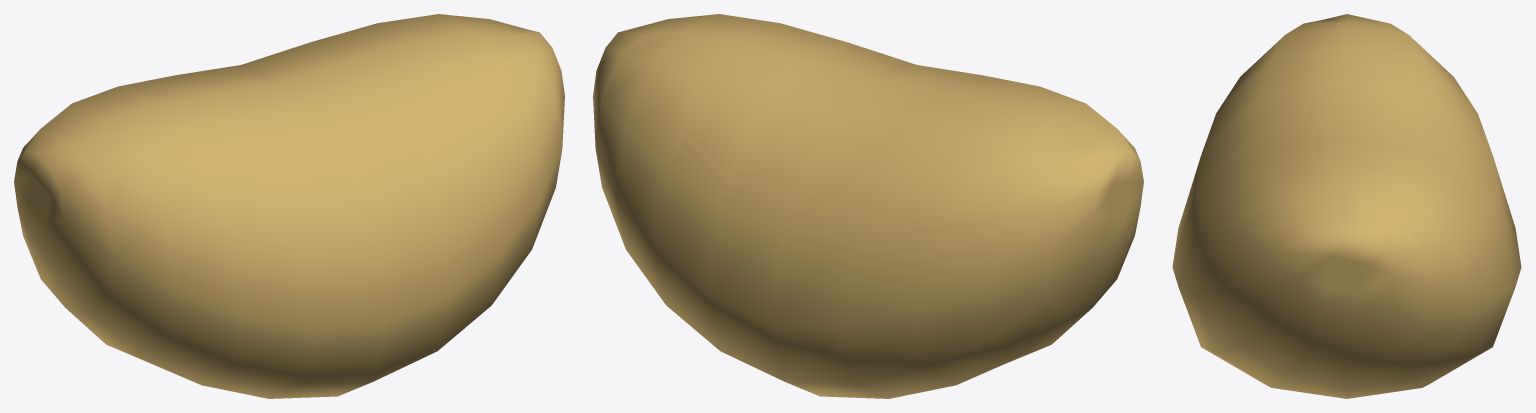
File: Garlic_Peeled.glb
The picture shows the model from 3 angles, left to right: view 1: azimuth 30°, elevation 25°; view 2: azimuth 150°, elevation 25°; view 3: azimuth 270°, elevation 25°; orthographic projection. The views are drawn at different scales.
Parts seen in each view (by area): view 1: Garlic_Peeled; view 2: Garlic_Peeled; view 3: Garlic_Peeled.
Part boxes in pixels (<box>): Garlic_Peeled: <box>14,14,564,398</box>; Garlic_Peeled: <box>593,14,1143,398</box>; Garlic_Peeled: <box>1172,14,1521,398</box>.
Bounding box in the file's own units: 2.28 × 1.3 × 1.53.
Materials: 1 (1 with a texture image).
